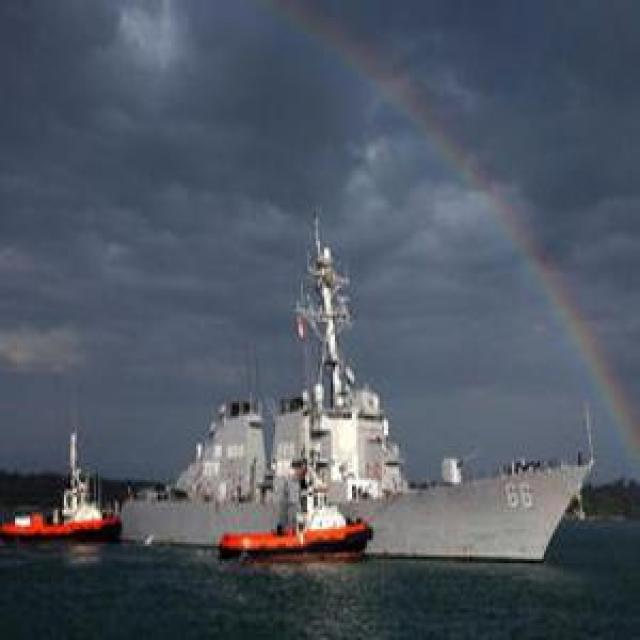navalvessels: (119, 232, 620, 567), (208, 471, 371, 556), (7, 429, 122, 544)
